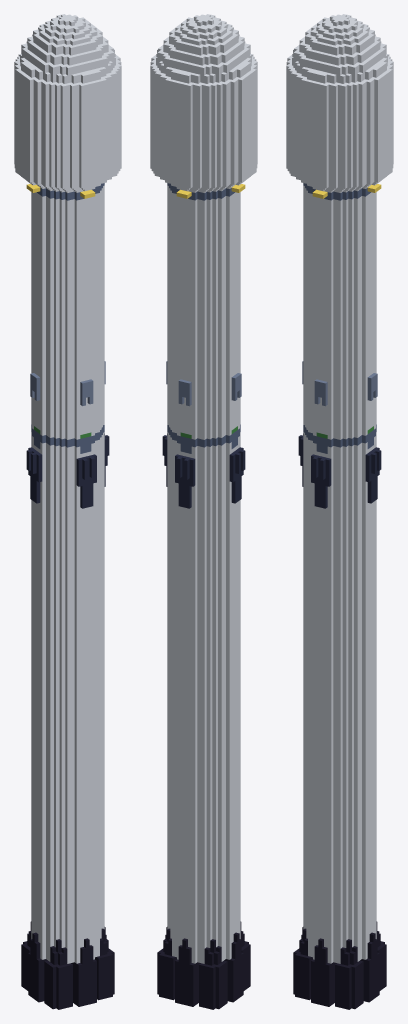
Rendered from pelicano_ix.glb.
3 renders of one model, left to right at view 1: azimuth 30°, elevation 25°; view 2: azimuth 150°, elevation 25°; view 3: azimuth 330°, elevation 25°, orthographic.
Parts seen in each view (by area): view 1: ObjObject.019; view 2: ObjObject.019; view 3: ObjObject.019.
Part boxes in pixels (<box>): ObjObject.019: <box>14,14,121,1009</box>; ObjObject.019: <box>150,14,257,1009</box>; ObjObject.019: <box>286,14,393,1009</box>.
Size of the model in its own units: 2.5 by 25.6 by 2.5.
Materials: 1 (1 with a texture image).
